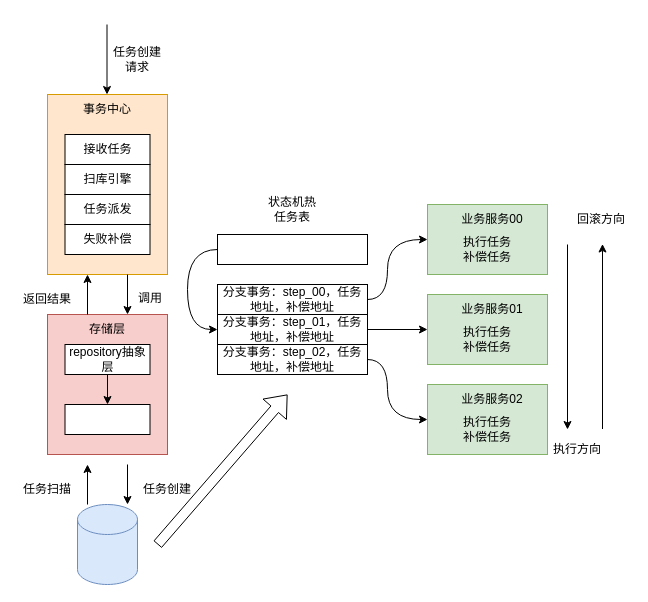
Some shapes in this 648 by 602 pixel diagram are drawn without their labels. The centre of each missing label's shape, as x and y in pixels:
orm框架（可替换为自研orm）: pixel 107 419
全局事务：步骤指针：step_xx: pixel 292 249
数据库: pixel 107 544
